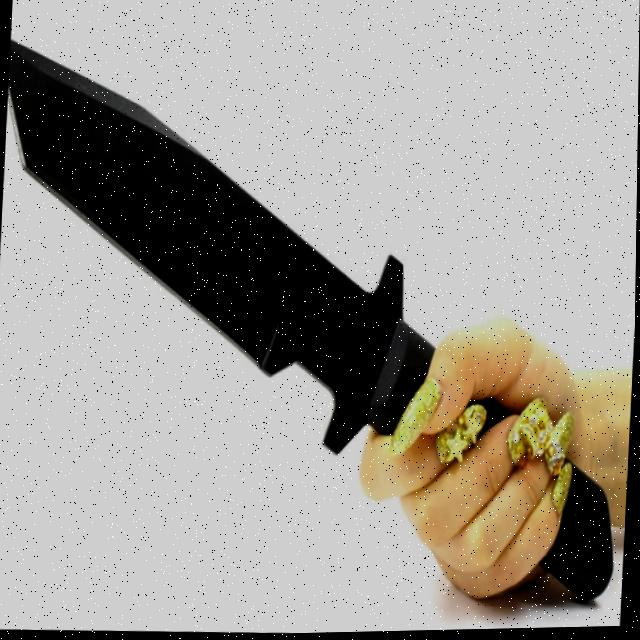knife: (0, 17, 640, 619)
